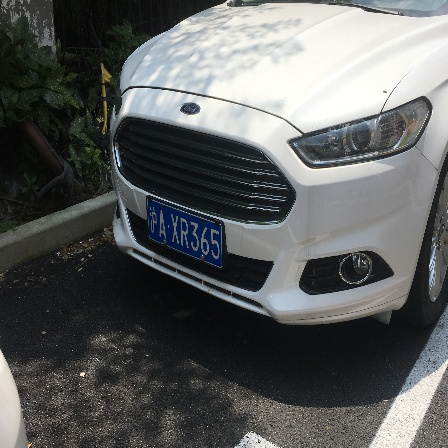plate: (145, 194, 226, 271)
